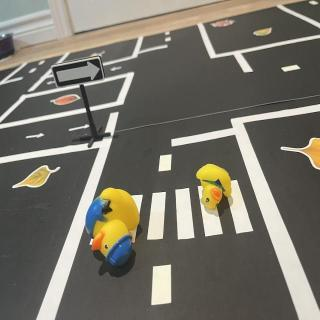duck_regular: (198, 163, 235, 211)
duck_specialty: (88, 186, 142, 266)
road_crosswalk: (132, 178, 256, 244)
road_oneway: (67, 126, 92, 135), (25, 132, 47, 142), (47, 79, 58, 87), (111, 67, 125, 73)
sign_oneway_right: (53, 55, 107, 89)
